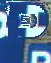Parking: (4, 0, 49, 61)
